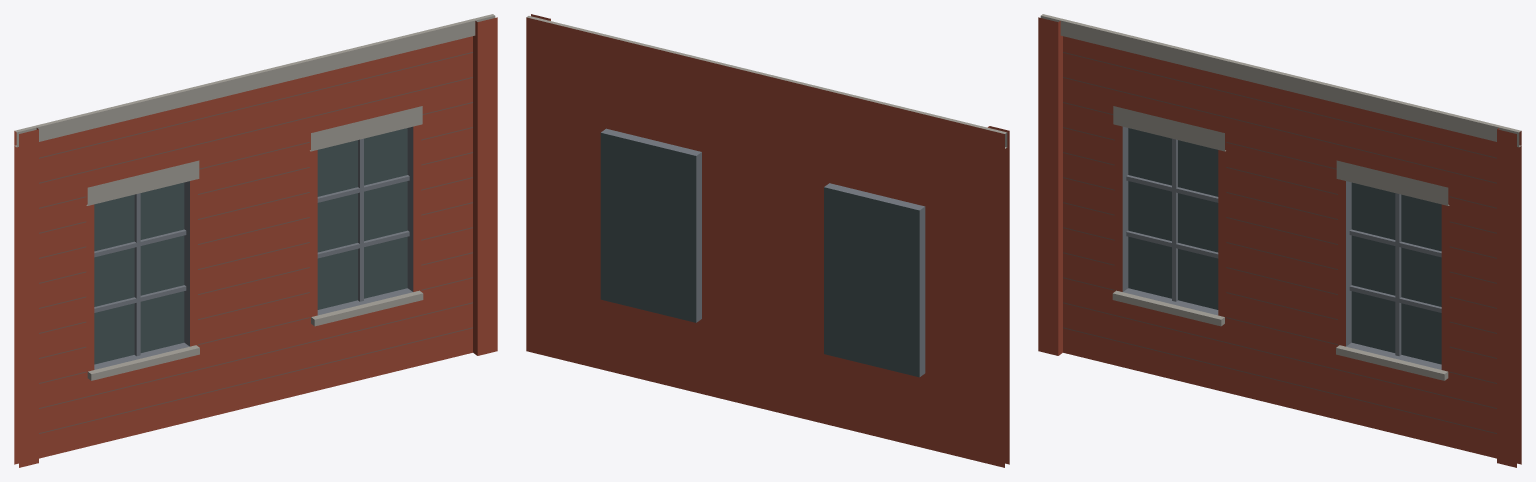
Rendered from mid-w1_close.fbx.
3 views of the same model, side by side, from view 1: azimuth 30°, elevation 25°; view 2: azimuth 150°, elevation 25°; view 3: azimuth 330°, elevation 25° (orthographic).
Parts seen in each view (by area): view 1: a2013/700/mid-w1_close; view 2: a2013/700/mid-w1_close; view 3: a2013/700/mid-w1_close.
Part boxes in pixels (x1,y1,x2,y2): a2013/700/mid-w1_close: (14,14,497,467); a2013/700/mid-w1_close: (526,14,1009,467); a2013/700/mid-w1_close: (1038,14,1521,467).
Size of the model in its own units: 6 by 4 by 0.22.
